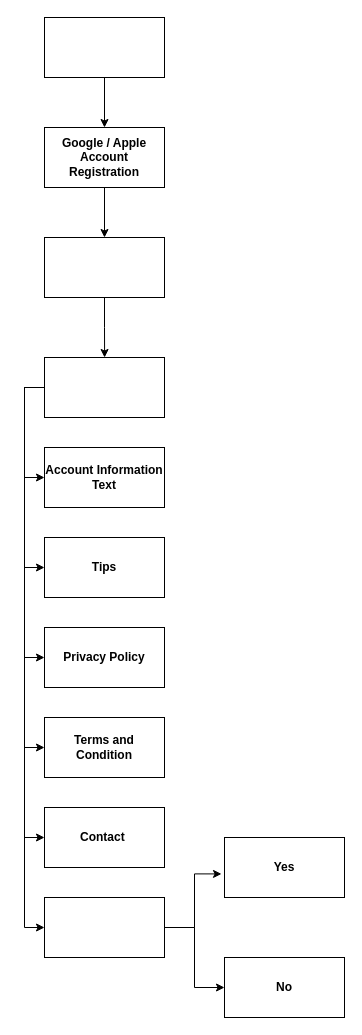
Some shapes in this 362 by 1035 pixel diagram are drawn without their labels. The shapes that lost their labels are listed below. From the top down, each one's centre as x and y in pixels, then its label:
At pixel 104 47: "OOTDLY APPLICATION".
At pixel 104 267: "Google / Apple Account Login".
At pixel 104 387: "Settings Tab".
At pixel 104 927: "Logout".
